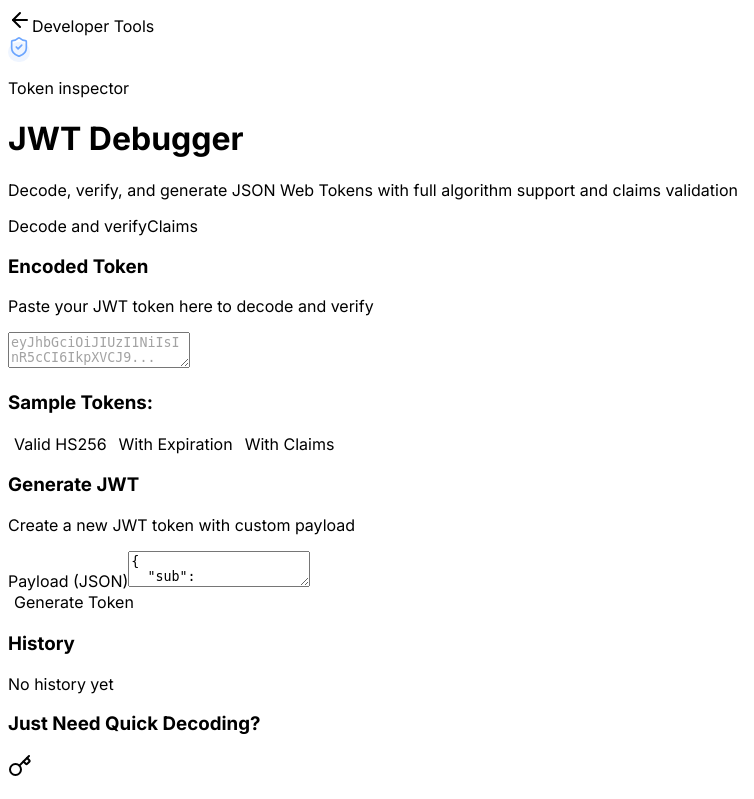
Test: JWTDebuggerPage › Token Input and Decoding › shows decoded payload after entering valid token
This screenshot has width=754, height=799.
Step 1. Type "eyJhbGciOiJIUzI1NiIsInR5cCI6IkpXVCJ9.eyJzdWIiOiIxMjM0NTY3ODkwIiwibmFtZSI6IkpvaG4gRG9lIiwiaWF0IjoxNTE2MjM5MDIyfQ.SflKxwRJSMeKKF2QT4fwpMeJf36POk6yJV_adQssw5c" into the text box with placeholder "eyJhbGciOiJIUzI1NiIsInR5cCI6IkpXVCJ9..." → (99, 350), box [8,332,190,368]
(page scrolled)
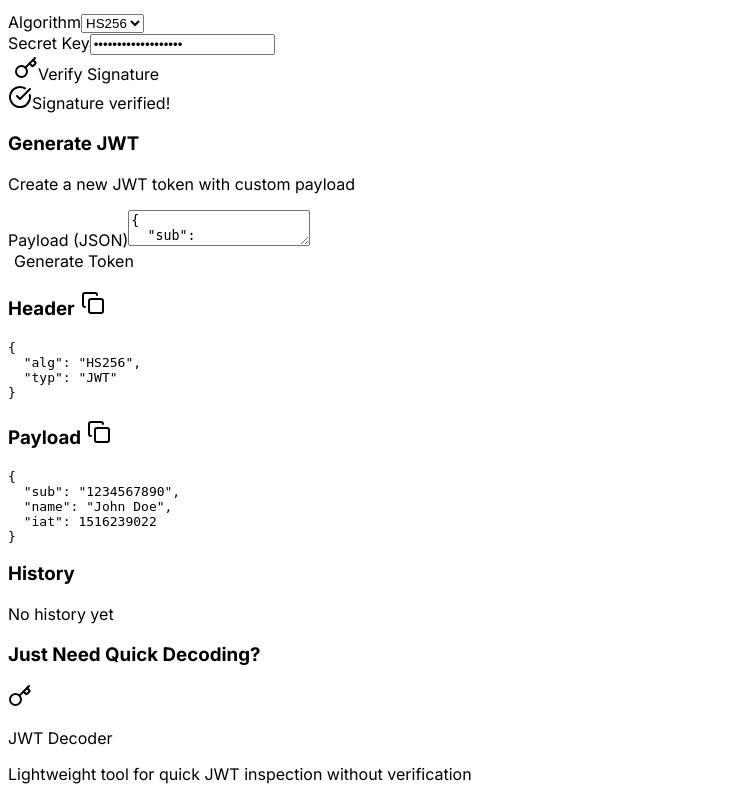
Expected: the heading "Payload" is shown, [8,419,117,450]
